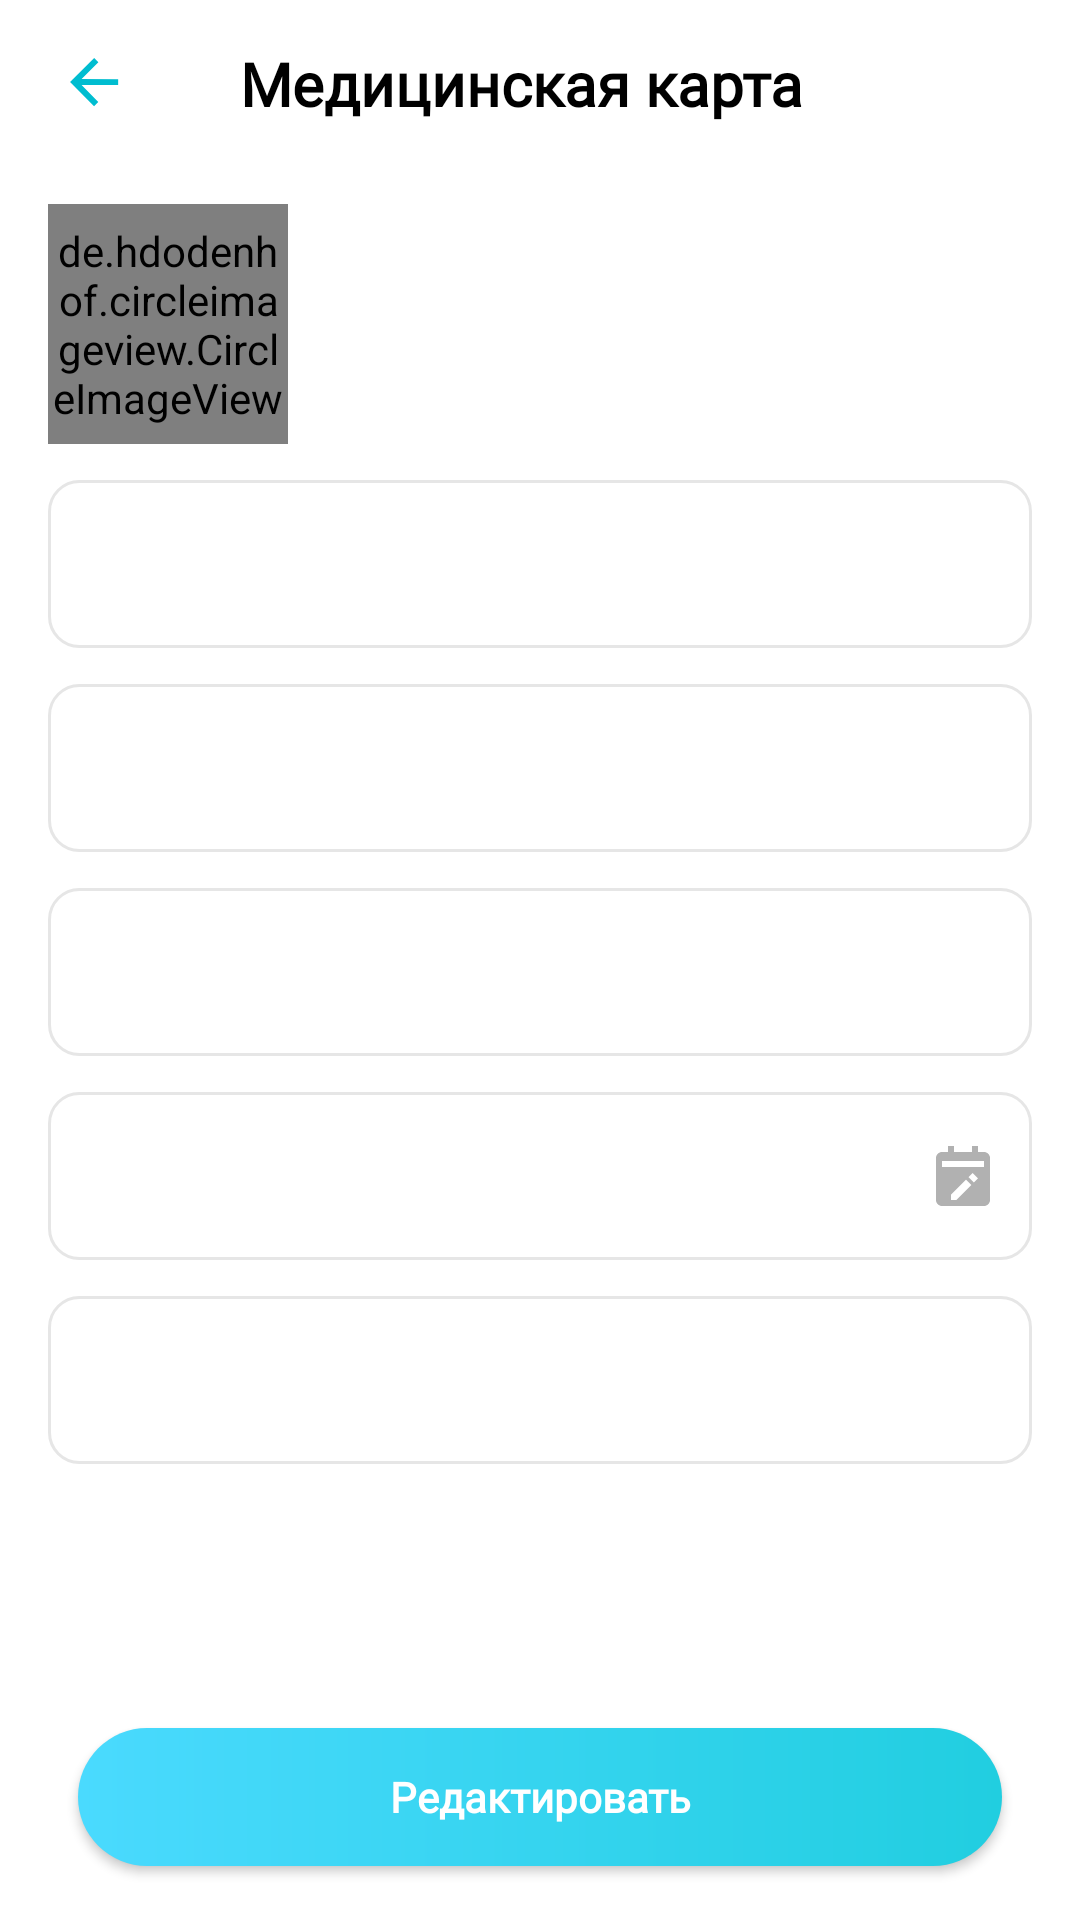

Where to tap for icons on this 1080*1920 app screen, as point (x, y):
arrow back: point (94, 82)
